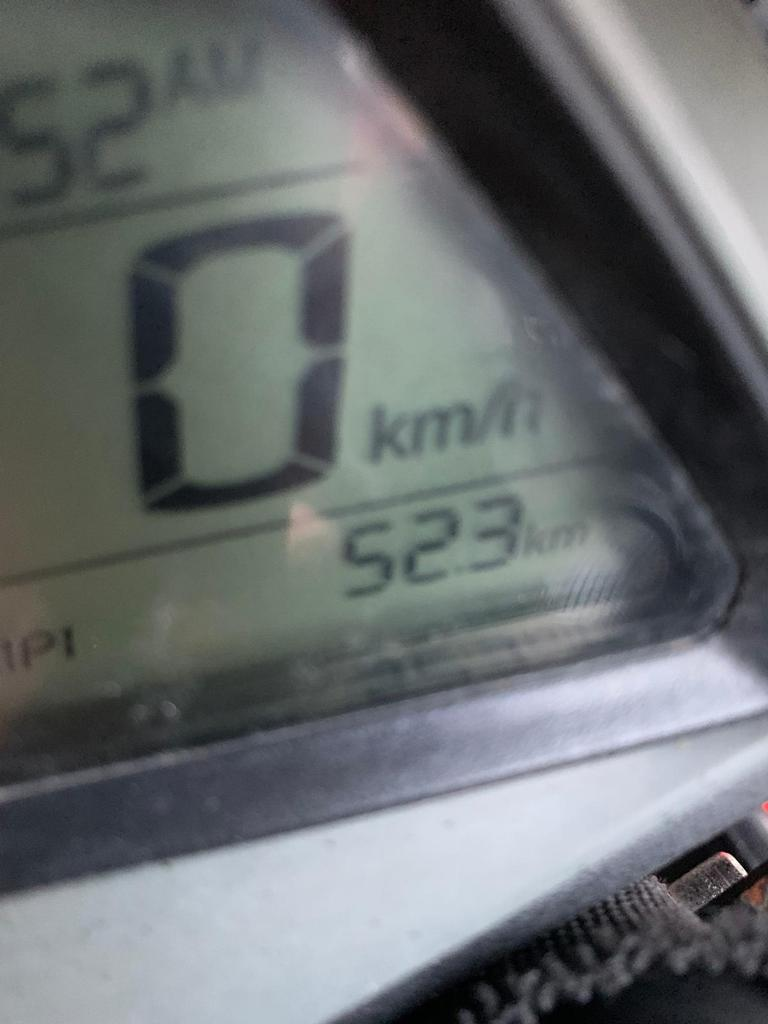,: (455, 560, 466, 583)
0: (124, 215, 353, 514)
1: (59, 618, 80, 663)
2: (79, 52, 160, 192), (401, 504, 456, 587)
3: (466, 494, 520, 573)
5: (1, 69, 75, 209), (335, 519, 395, 598)
X: (162, 38, 209, 116), (209, 36, 267, 98), (412, 401, 476, 454), (503, 370, 545, 443), (366, 399, 410, 465), (18, 614, 57, 680), (476, 376, 503, 451), (548, 519, 591, 551), (524, 514, 546, 558), (1, 630, 18, 676)
odometer: (0, 0, 752, 804)
